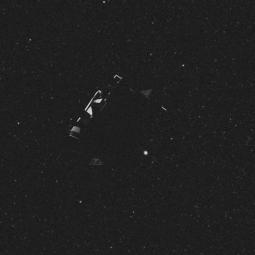proba_3_csc: (68, 72, 181, 168)
